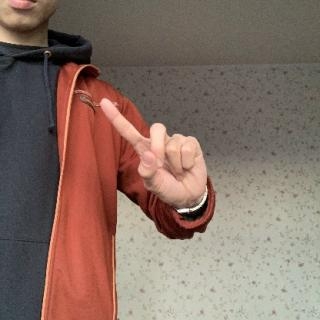BAA: (97, 96, 209, 209)
